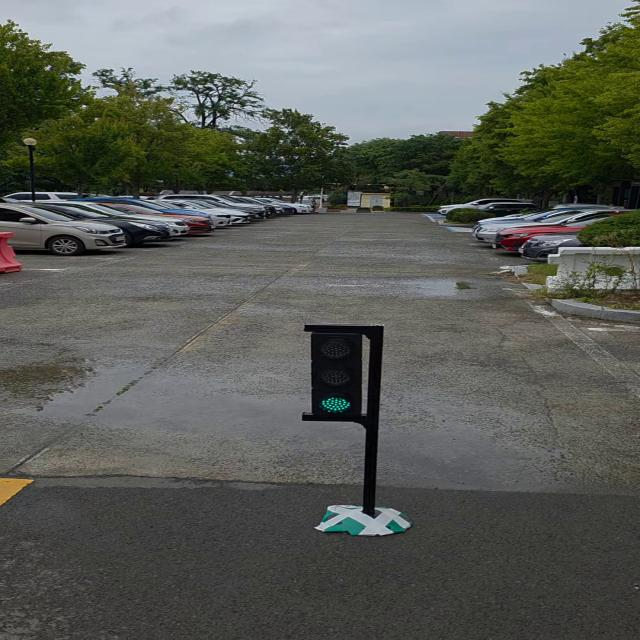green: (314, 329, 381, 418)
